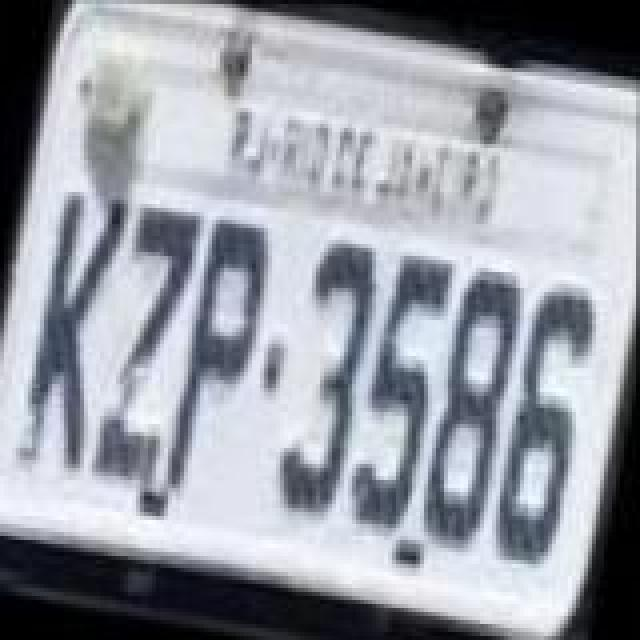3: (264, 224, 384, 524)
5: (338, 238, 454, 538)
6: (480, 270, 604, 570)
8: (414, 254, 530, 554)
K: (10, 180, 130, 476)
P: (164, 212, 276, 504)
Z: (84, 190, 200, 486)
